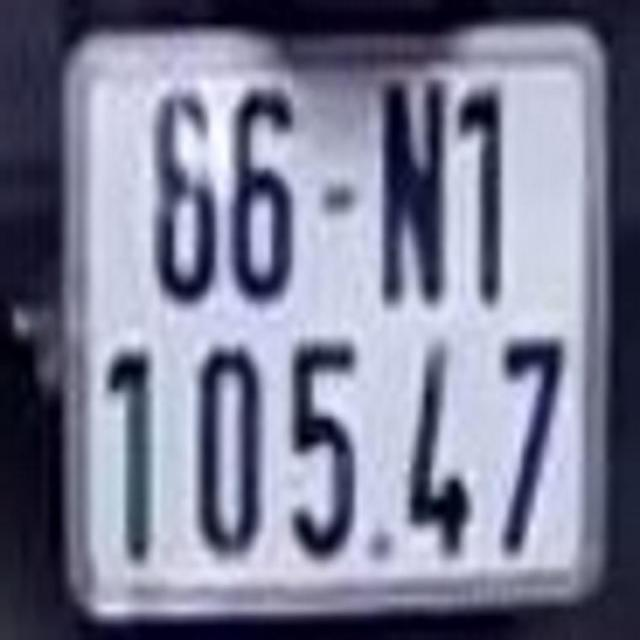0: (182, 343, 266, 548)
1: (458, 88, 514, 306), (112, 350, 168, 560)
4: (404, 351, 474, 552)
5: (282, 341, 362, 564)
6: (225, 84, 299, 295), (149, 96, 221, 297)
7: (498, 336, 572, 559)
N: (373, 79, 449, 308)
